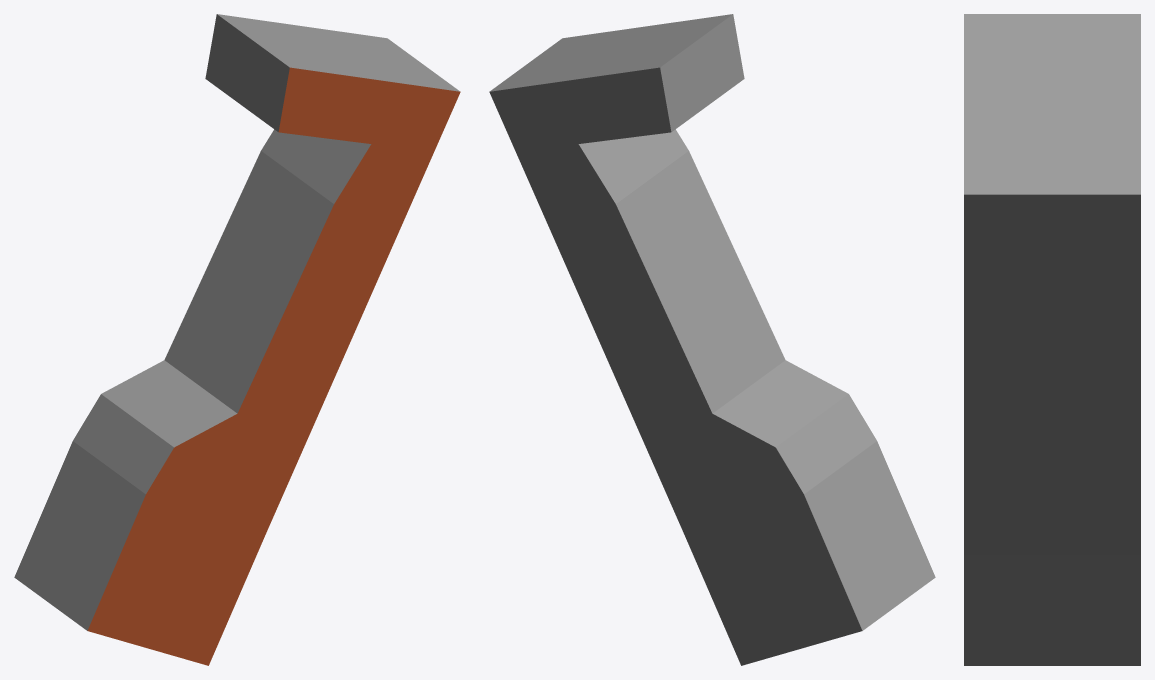
File: construction_4508_assumed_A_Casa_h6m.obj
3 views of the same model, side by side, from view 1: azimuth 30°, elevation 25°; view 2: azimuth 150°, elevation 25°; view 3: azimuth 270°, elevation 25° (orthographic). The views are drawn at different scales.
Parts seen in each view (by area): view 1: construction_4508_assumed_A_Casa; view 2: construction_4508_assumed_A_Casa; view 3: construction_4508_assumed_A_Casa.
Part boxes in pixels (x1,y1,x2,y2): construction_4508_assumed_A_Casa: (14, 14, 460, 665); construction_4508_assumed_A_Casa: (489, 14, 935, 665); construction_4508_assumed_A_Casa: (964, 14, 1140, 665).
Size of the model in its own units: 17.68 by 26.19 by 6.
